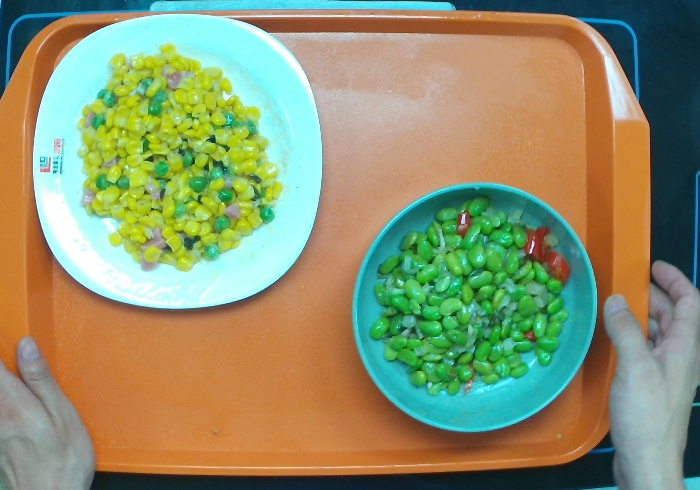ZNLD-Qing_Hua_Yuan_Wan: (350, 179, 600, 434)
ZNLD-Yuan_Jiao_Pan: (29, 11, 324, 310)
